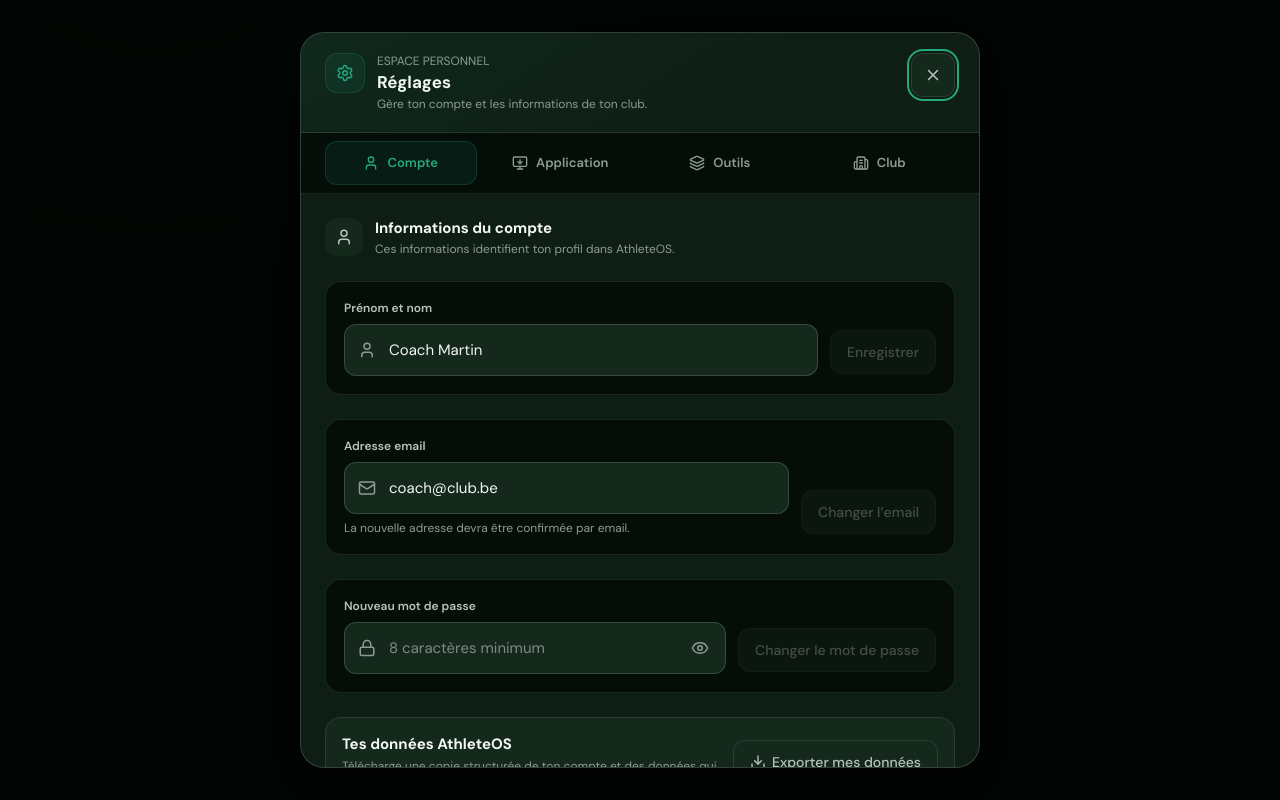
AccountSettingsModal › exporte uniquement les données personnelles préparées par le serveur
What coordinates should you click on to do the following:
click the button "Exporter mes données"
I would click on:
 (836, 762)
Its box is top-left (733, 740), bottom-right (938, 784).
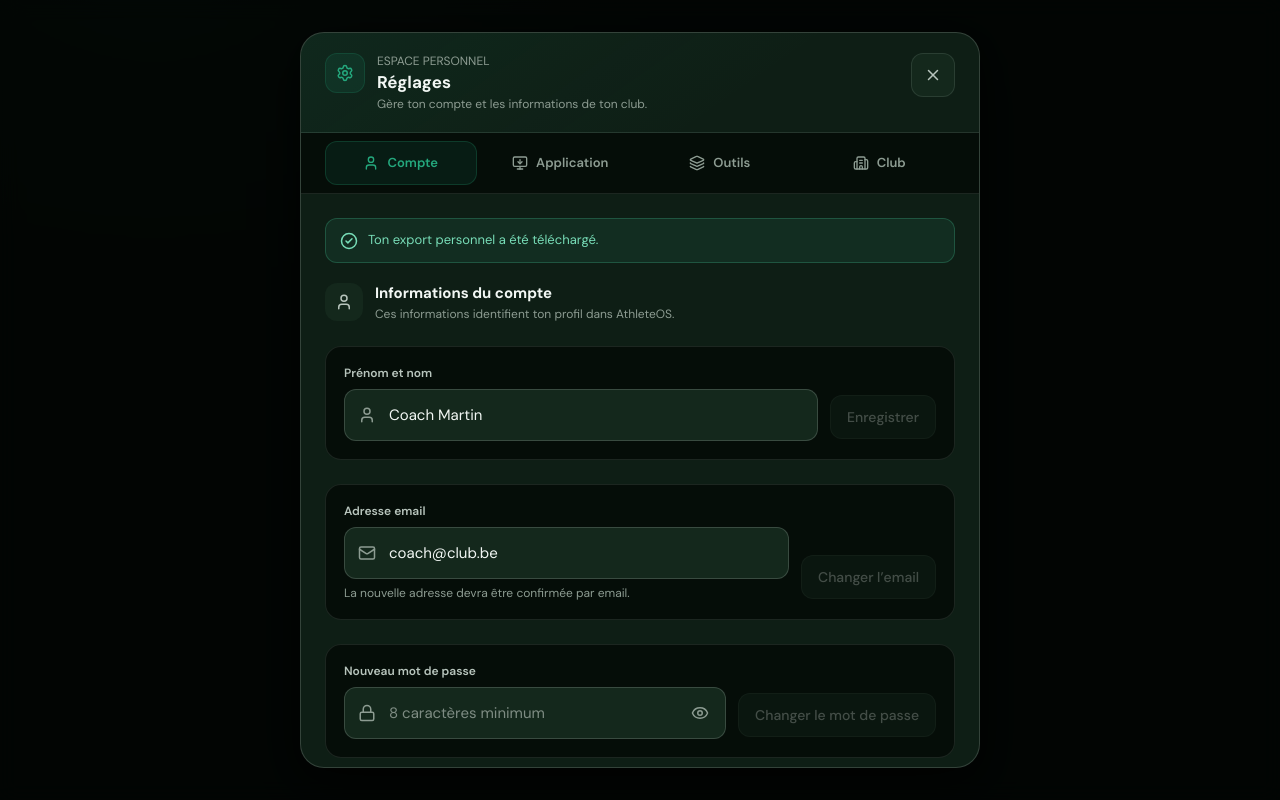
Now the text "Ton export personnel a été téléchargé." is shown, box top-left (368, 231), bottom-right (598, 249)
